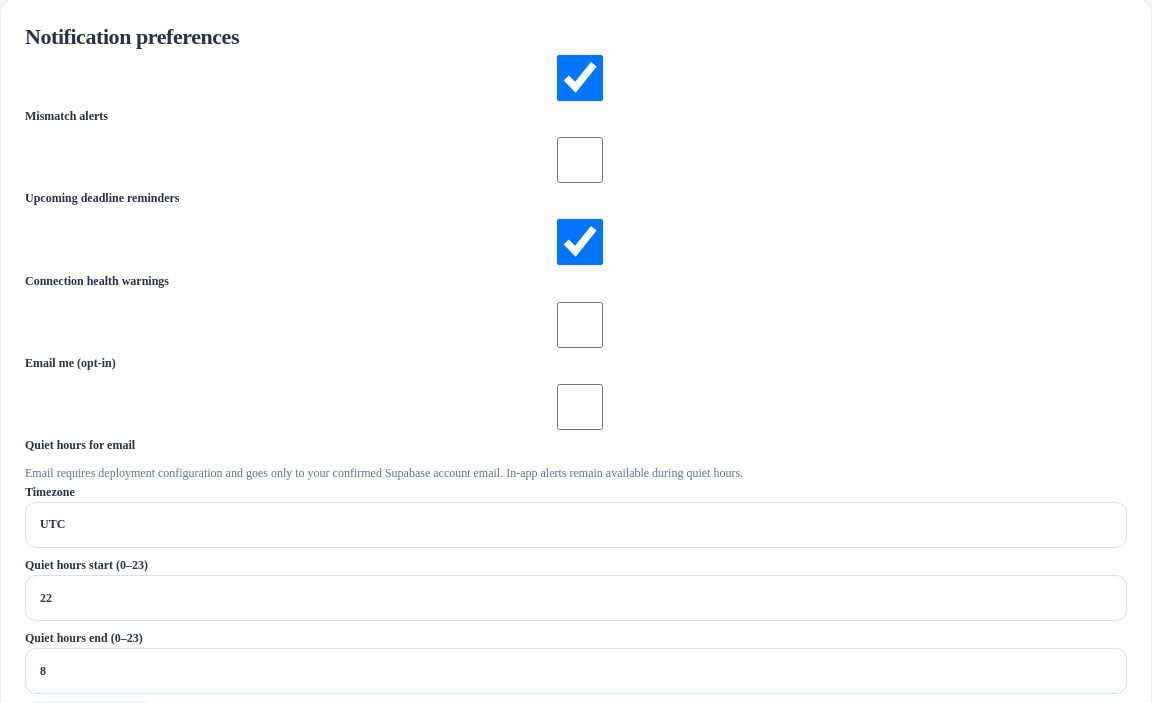
Scenario: reports deployment email configuration failure without a fake success
The image size is (1152, 703).
Click the checkbox labelled "Email me (opt-in)". click: (580, 325)
box: [29, 302, 1131, 348]
(page scrolled)
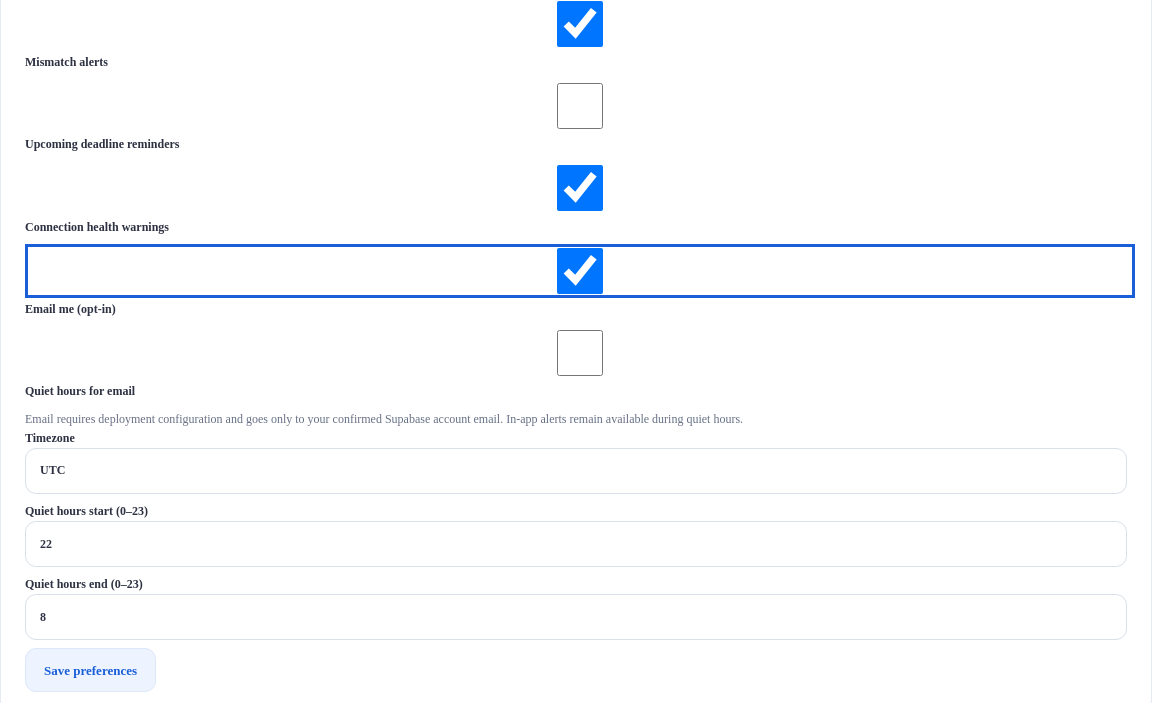
Click the button "Save preferences". click: (90, 670)
box: [25, 648, 156, 692]
(page scrolled)
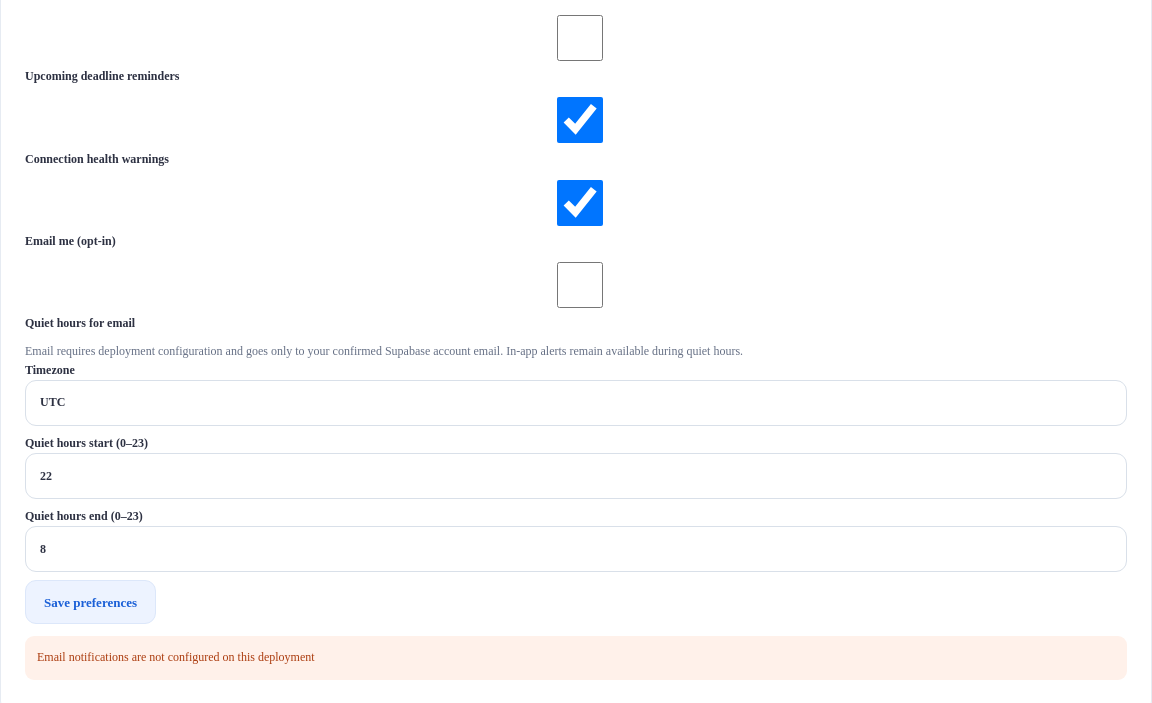
Expected: the message shows "Email notifications are not configured", [37, 650, 315, 664]
